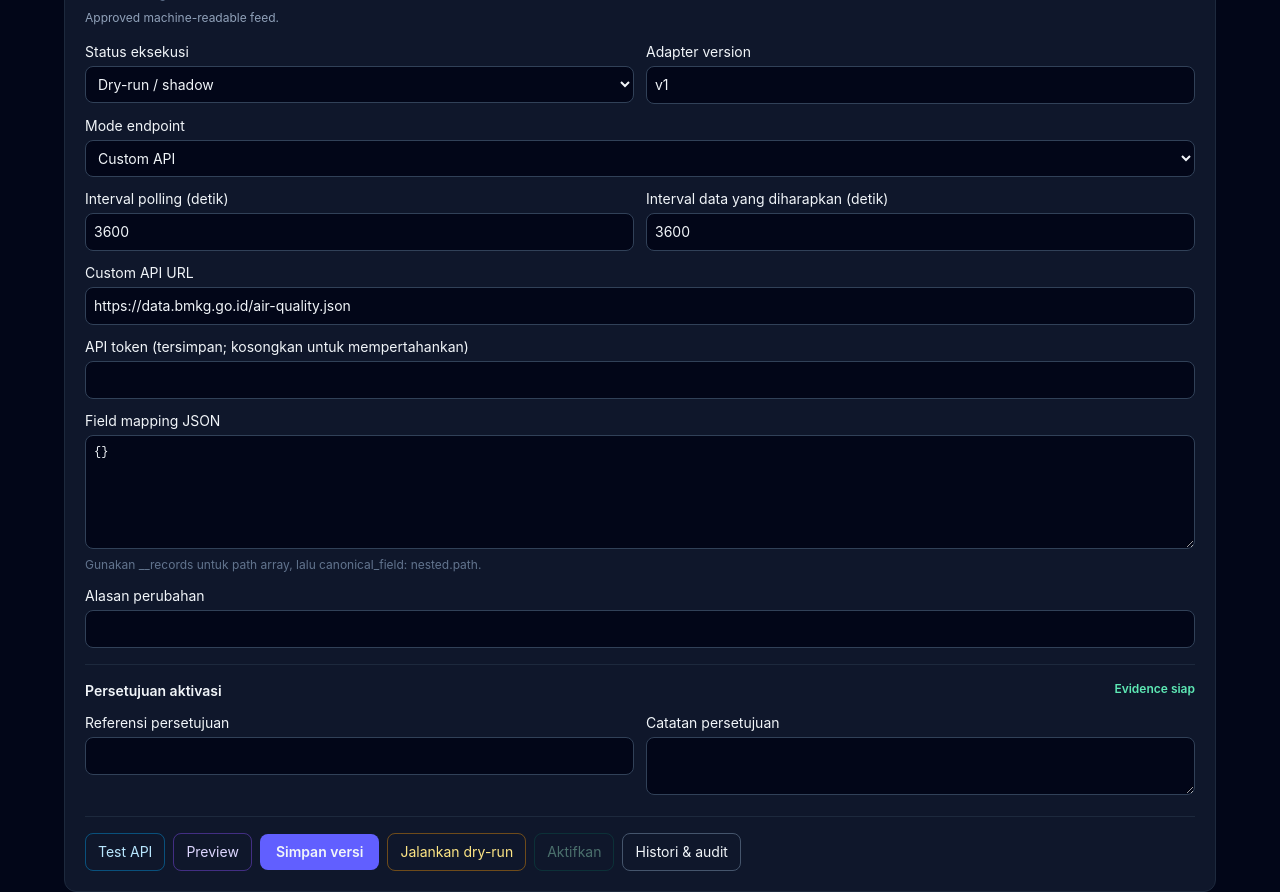
Test: official source activation approval › keeps activation disabled until readiness is verified and both approval fields are present
(page scrolled)
Expected: the button "Aktifkan" is disabled, [534,833,614,871]
Step 1. Type "CHG-2026-0715" into the field labelled "Referensi persetujuan" → coordinates (360, 756), box [85,737,634,775]
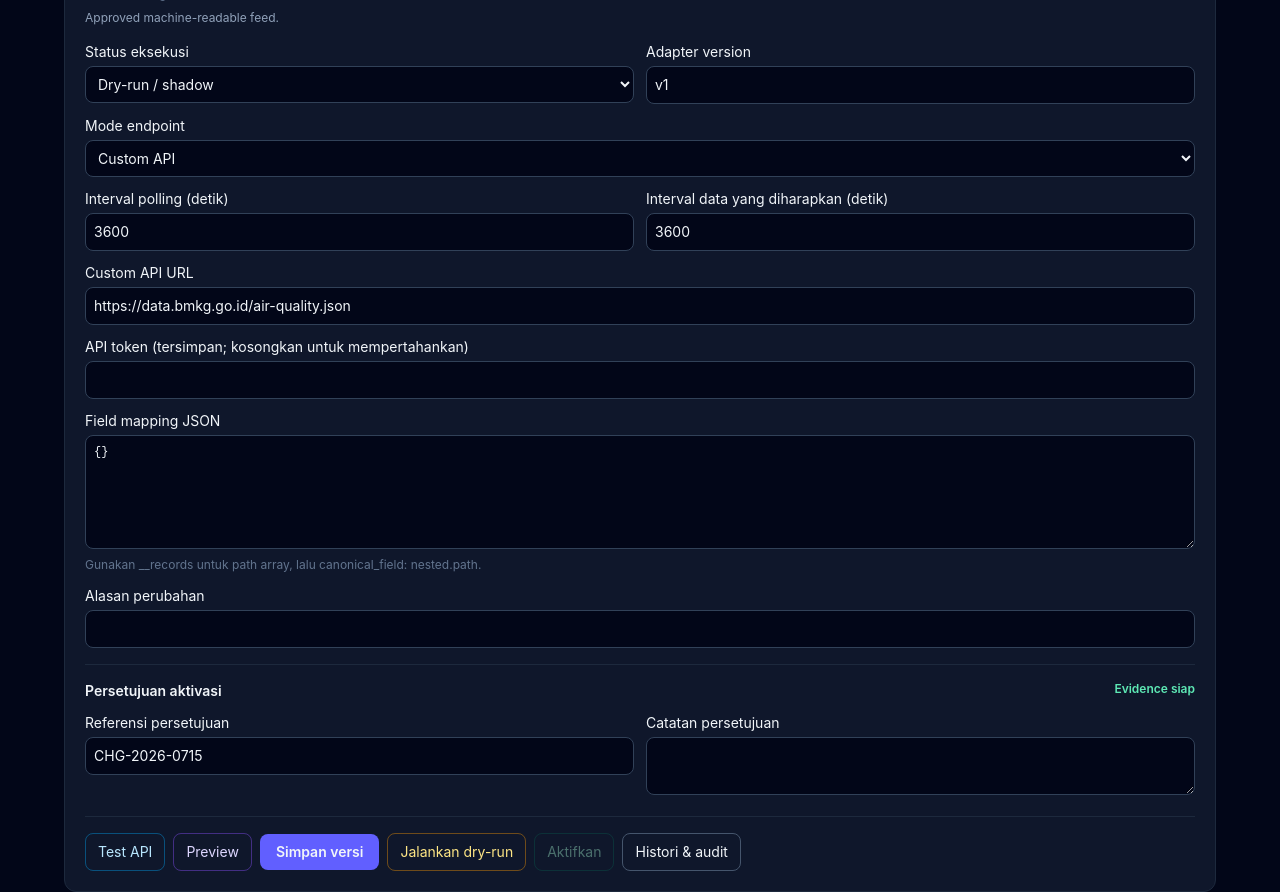
Expected: the button "Aktifkan" is disabled, [534,833,614,871]
Step 2. Type "Sudah disetujui setelah verifikasi shadow." into the text box labelled "Catatan persetujuan" → coordinates (920, 766), box [646,737,1195,795]
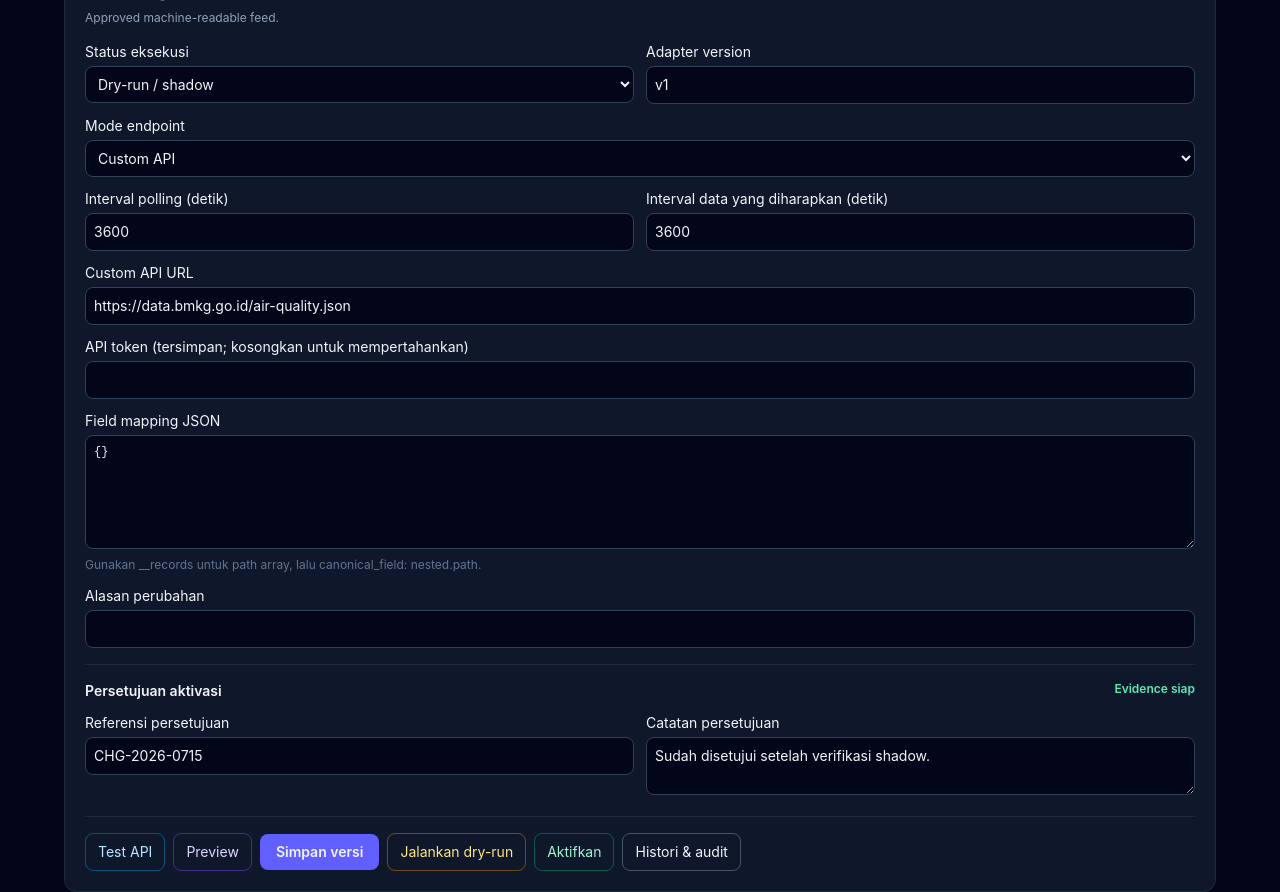
Now the button "Aktifkan" is enabled, box [534,833,614,871]
